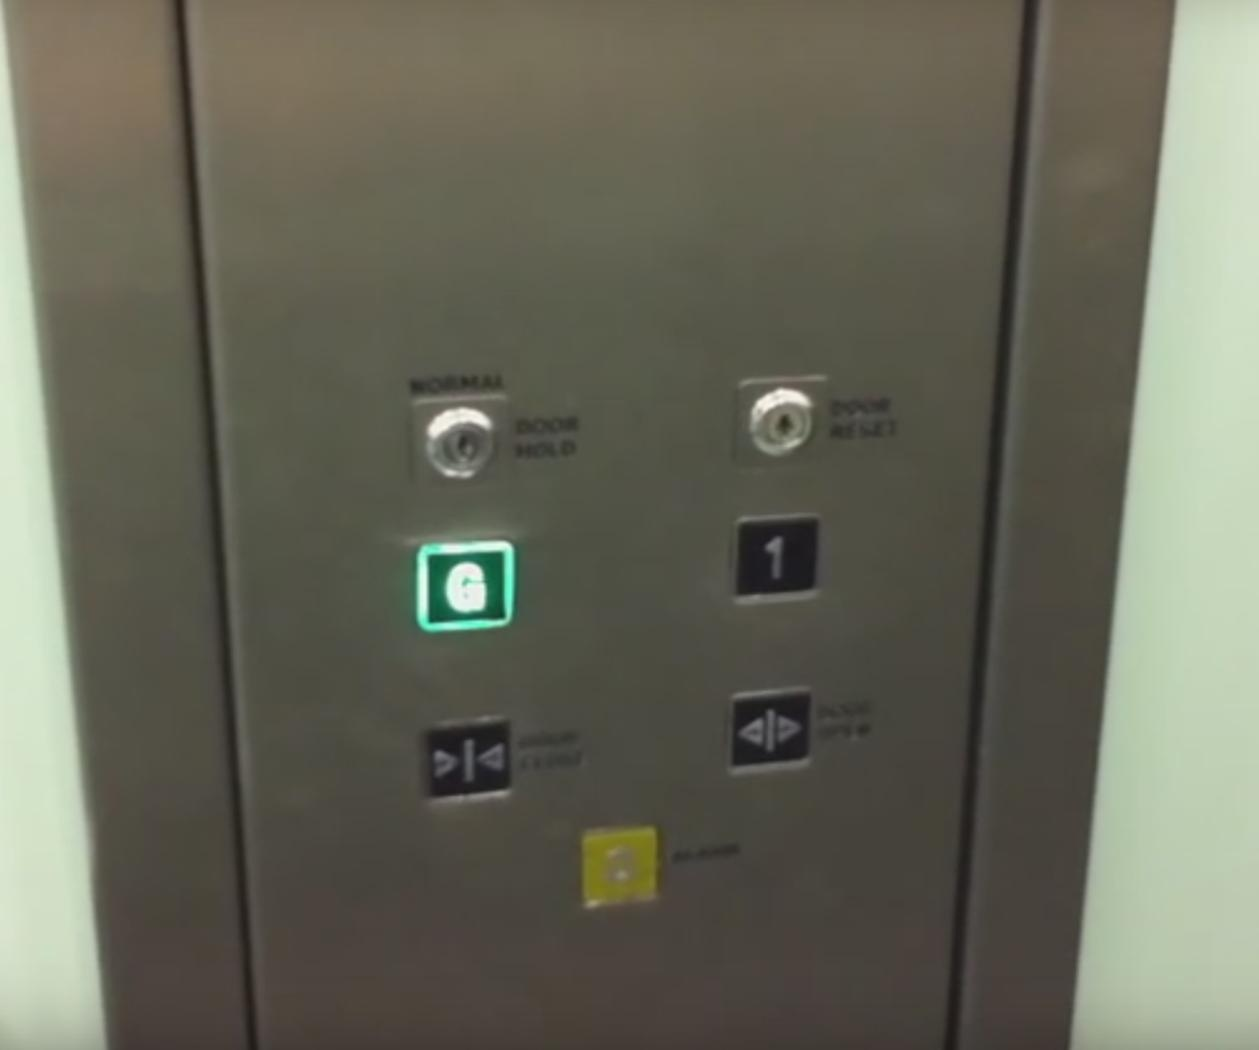1: (727, 508, 832, 610)
G: (412, 537, 521, 638)
alarm: (574, 818, 664, 918)
bt_keyhole: (402, 390, 519, 496), (728, 369, 837, 471)
close: (414, 709, 518, 811)
open: (718, 680, 822, 782)
